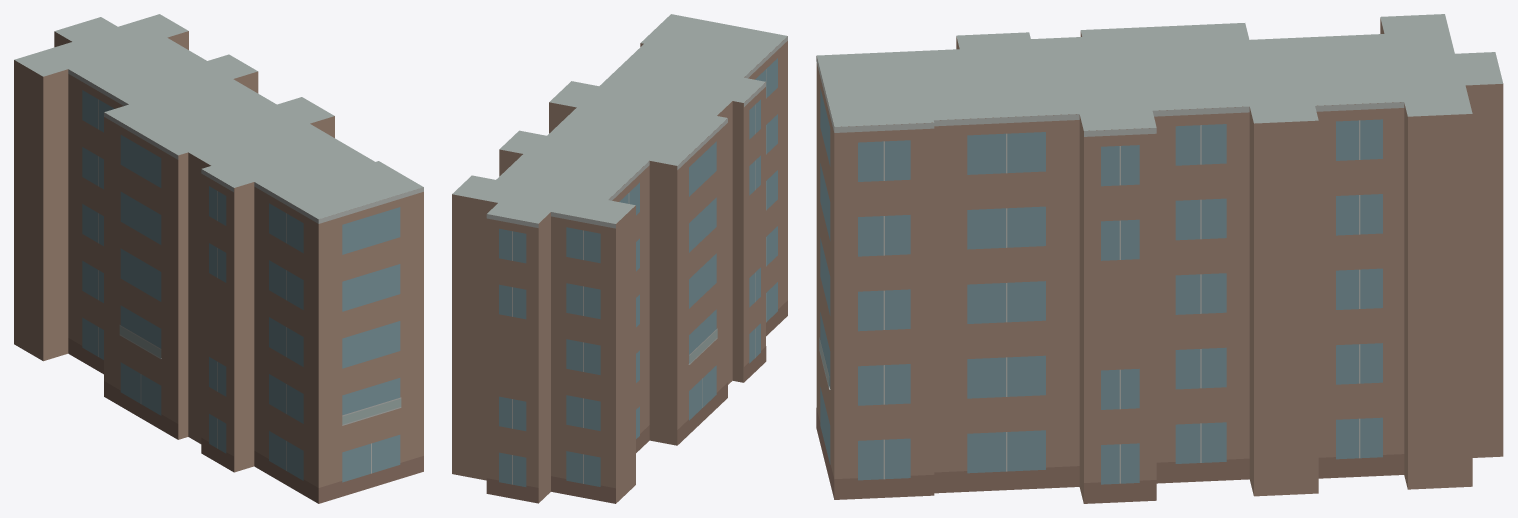
Rendered from survey-upis-32921665.glb.
The picture shows the model from 3 angles, left to right: view 1: azimuth 30°, elevation 25°; view 2: azimuth 150°, elevation 25°; view 3: azimuth 270°, elevation 25°; orthographic projection. The views are drawn at different scales.
Parts seen in each view (by area): view 1: survey-upis-32921665.tmp; view 2: survey-upis-32921665.tmp; view 3: survey-upis-32921665.tmp.
Boxes of the visible parts, x1,y1,x2,y2 form: survey-upis-32921665.tmp: [14, 14, 423, 503]; survey-upis-32921665.tmp: [452, 14, 787, 503]; survey-upis-32921665.tmp: [816, 14, 1503, 503].
Size of the model in its own units: 10.24 by 15.2 by 25.38.
